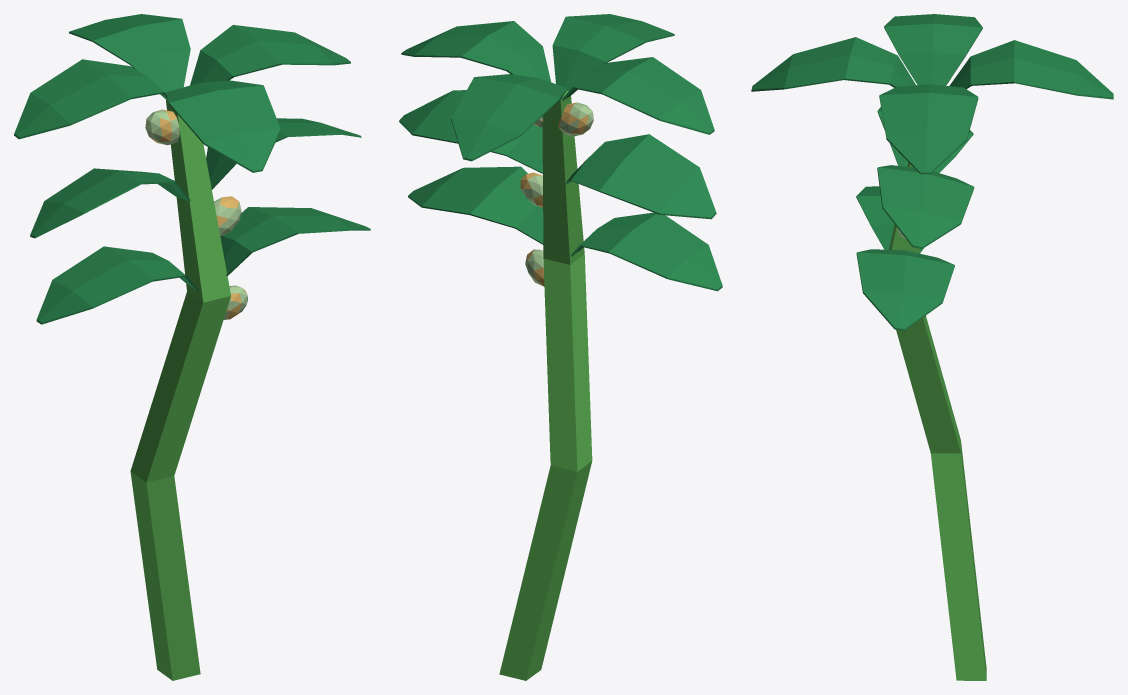
File: AJONJOLI MEDIANO.fbx
The picture shows the model from 3 angles, left to right: view 1: azimuth 30°, elevation 25°; view 2: azimuth 150°, elevation 25°; view 3: azimuth 270°, elevation 25°; orthographic projection. The views are drawn at different scales.
Visible parts, largest first — view 1: Cube, Cube.001, Icosphere; view 2: Cube, Cube.001, Icosphere; view 3: Cube, Cube.001.
Boxes of the visible parts, box(x1,y1,x2,y2) form: Cube: box(14, 14, 370, 324); Cube.001: box(130, 100, 230, 680); Icosphere: box(145, 109, 247, 319); Cube: box(399, 14, 722, 291); Cube.001: box(499, 90, 592, 680); Icosphere: box(520, 102, 593, 286); Cube: box(751, 14, 1113, 330); Cube.001: box(889, 162, 986, 680).
Bounding box in the file's own units: 112 × 204 × 110.
